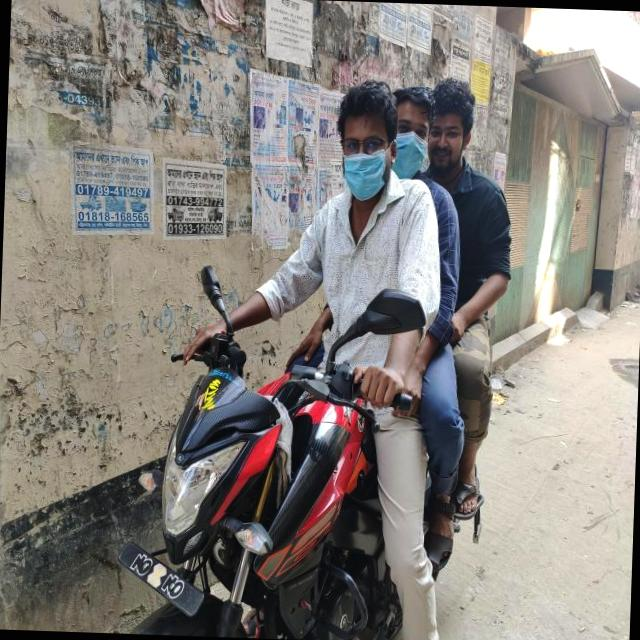motorcycle: (115, 253, 434, 640)
person: (185, 65, 458, 640), (363, 77, 481, 580), (410, 76, 521, 554)
rider_region: (110, 60, 518, 640)
